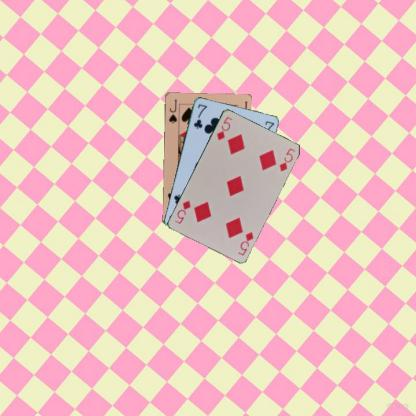5d: (214, 114, 234, 141), (235, 229, 255, 256)
7c: (191, 101, 208, 130)
Js: (166, 96, 178, 125)
